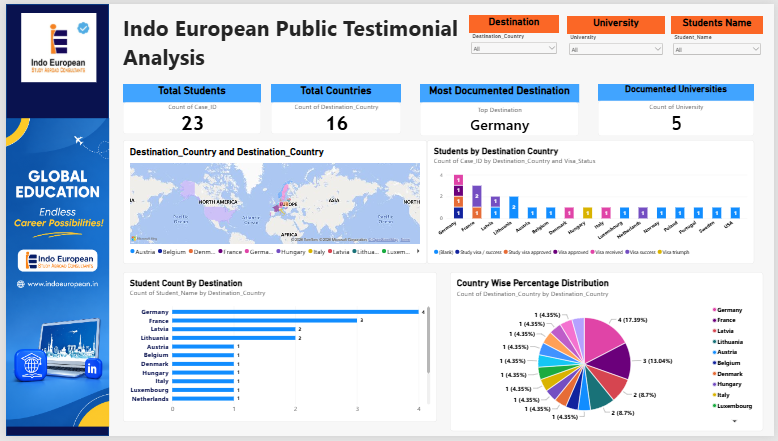

The dashboard page shown, as its layout file describes it:
{"tool":"powerbi","page":{"name":"Page 1","canvas":[1920,1080],"ordinal":0},"visuals":[{"type":"shape","box":[0,0,257.5,1080],"z":0},{"type":"textbox","box":[293.3,23.3,863.3,173.3],"z":1000},{"type":"image","box":[5,22.5,253.3,173.3],"z":2000},{"type":"cardVisual","title":"Total Students","fields":{"Data":["CountNonNull(StudentDataTable.Case_ID)"]},"box":[292.5,200,345,125],"z":3000},{"type":"filledMap","fields":{"Category":["StudentDataTable.Destination_Country"],"Series":["StudentDataTable.Destination_Country"]},"box":[292.5,340,760,310],"z":4000},{"type":"slicer","title":"Students Name","fields":{"Values":["StudentDataTable.Student_Name"]},"box":[1662.5,30,230,115],"z":5000},{"type":"slicer","title":"University","fields":{"Values":["StudentDataTable.University"]},"box":[1402.5,30,245,115],"z":6000},{"type":"clusteredBarChart","title":"Student Count By Destination","fields":{"Category":["StudentDataTable.Destination_Country"],"Y":["CountNonNull(StudentDataTable.Student_Name)"]},"box":[292.5,670,785,375],"z":7000},{"type":"slicer","title":"Destination","fields":{"Values":["StudentDataTable.Destination_Country"]},"box":[1157.5,27.5,225,135],"z":8000},{"type":"cardVisual","title":"Total Countries","fields":{"Data":["Count(StudentDataTable.Destination_Country)"]},"box":[662.5,200,325,125],"z":9000},{"type":"pieChart","title":"Country Wise Percentage Distribution","fields":{"Category":["StudentDataTable.Destination_Country"],"Y":["CountNonNull(StudentDataTable.Destination_Country)"]},"box":[1110,670,782.5,397.5],"z":10000},{"type":"cardVisual","title":"Documented Universities","fields":{"Data":["Count(StudentDataTable.University)"]},"box":[1480,200,390,130],"z":12000},{"type":"cardVisual","title":"Most Documented Destination","fields":{"Data":["Student_Data.Top Destination"]},"box":[1035,200,397.5,130],"z":13000},{"type":"image","box":[0,262.5,257.5,817.5],"z":14000},{"type":"columnChart","title":"Students by Destination Country","fields":{"Category":["Student_Data.Destination_Country"],"Series":["Student_Data.Visa_Status"],"Y":["CountNonNull(Student_Data.Case_ID)"]},"box":[1052,340,818,310],"z":14001}]}

Visuals, with their boxes in screenshot pixels (x1, y1, x2, y2), scaled from the page's 1920x1080 canvas onto the 778x441 screenshot:
shape: (0, 0, 104, 440)
textbox: (119, 10, 469, 80)
image: (2, 9, 105, 80)
"Total Students" cardVisual: (119, 82, 258, 133)
filledMap - StudentDataTable.Destination_Country x StudentDataTable.Destination_Country: (119, 139, 426, 265)
"Students Name" slicer: (674, 12, 767, 59)
"University" slicer: (568, 12, 668, 59)
"Student Count By Destination" clusteredBarChart: (119, 274, 437, 427)
"Destination" slicer: (469, 11, 560, 66)
"Total Countries" cardVisual: (268, 82, 400, 133)
"Country Wise Percentage Distribution" pieChart: (450, 274, 767, 436)
"Documented Universities" cardVisual: (600, 82, 758, 135)
"Most Documented Destination" cardVisual: (419, 82, 580, 135)
image: (0, 107, 104, 440)
"Students by Destination Country" columnChart: (426, 139, 758, 265)
